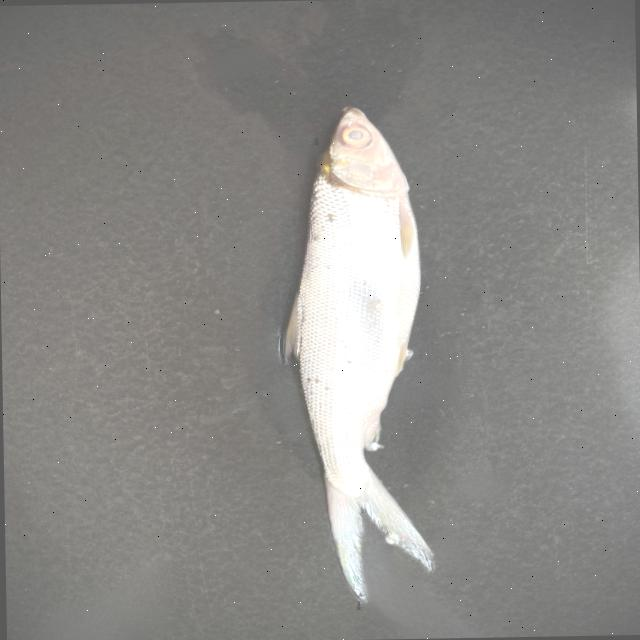450 g: (278, 106, 432, 604)
